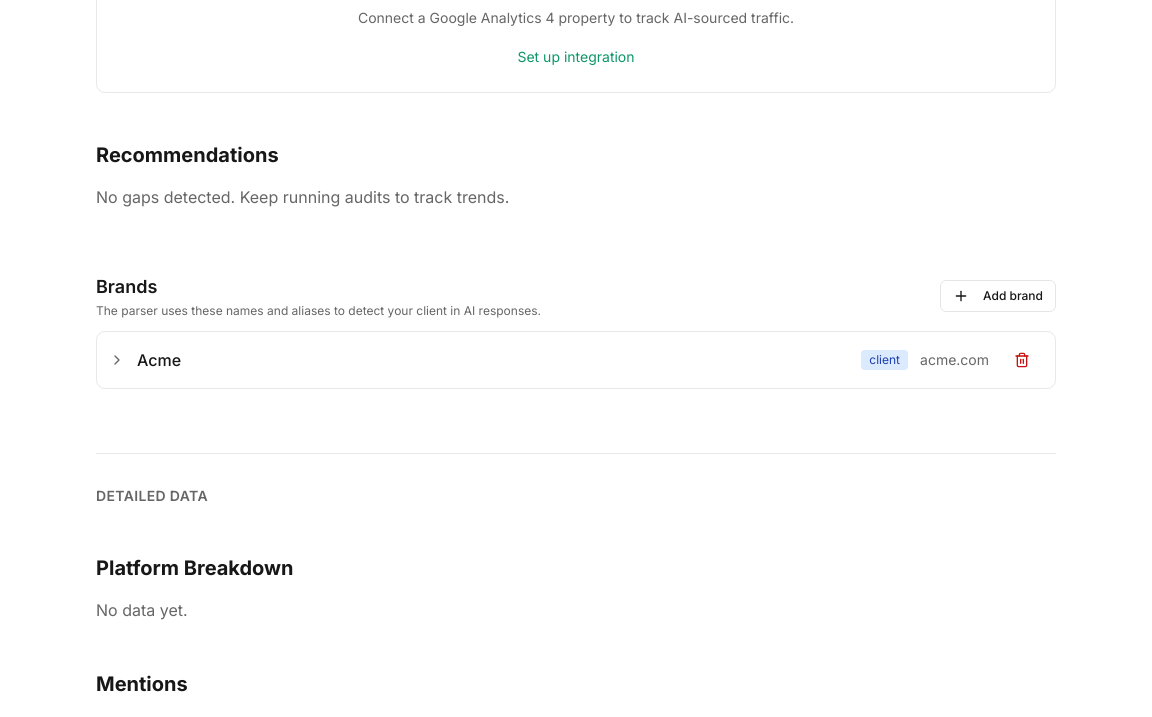
it: ClientDetail (consolidated AI visibility page) › shows an explanatory tooltip on the aliases section (B-24)
(page scrolled)
Click the button named "expand to manage aliases" at (117, 360), box x1=109 y1=352 x2=125 y2=368
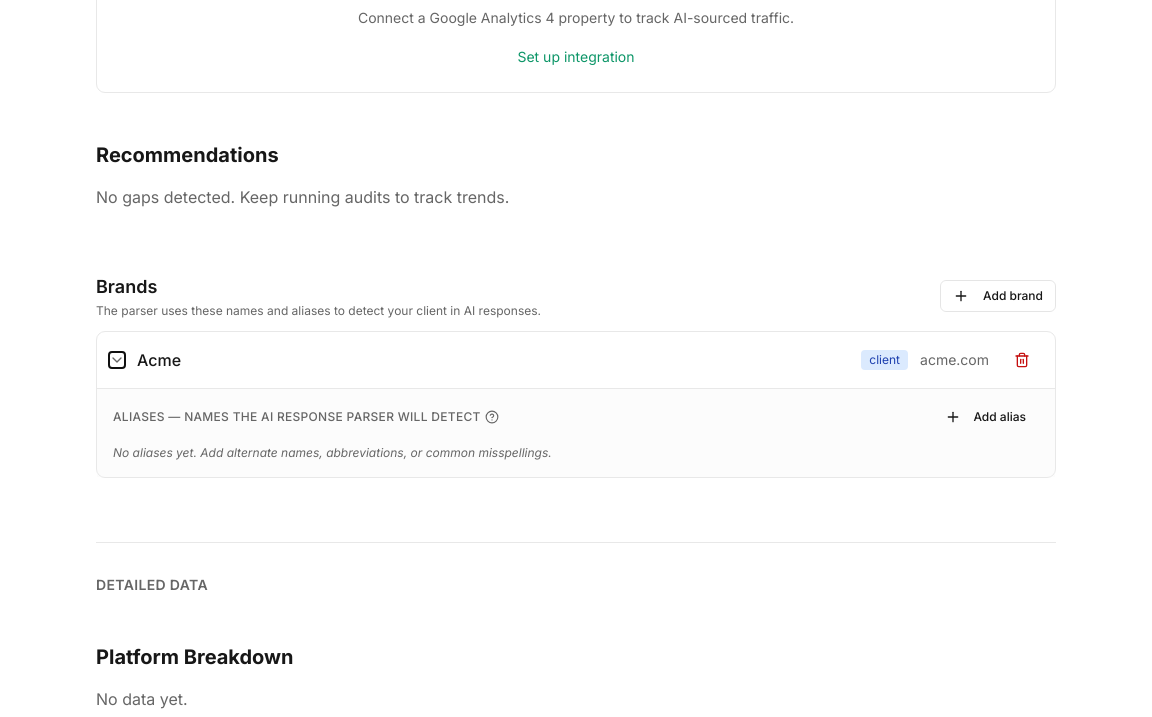
Hover over the button named "about aliases" at (492, 417), box x1=485 y1=410 x2=499 y2=424
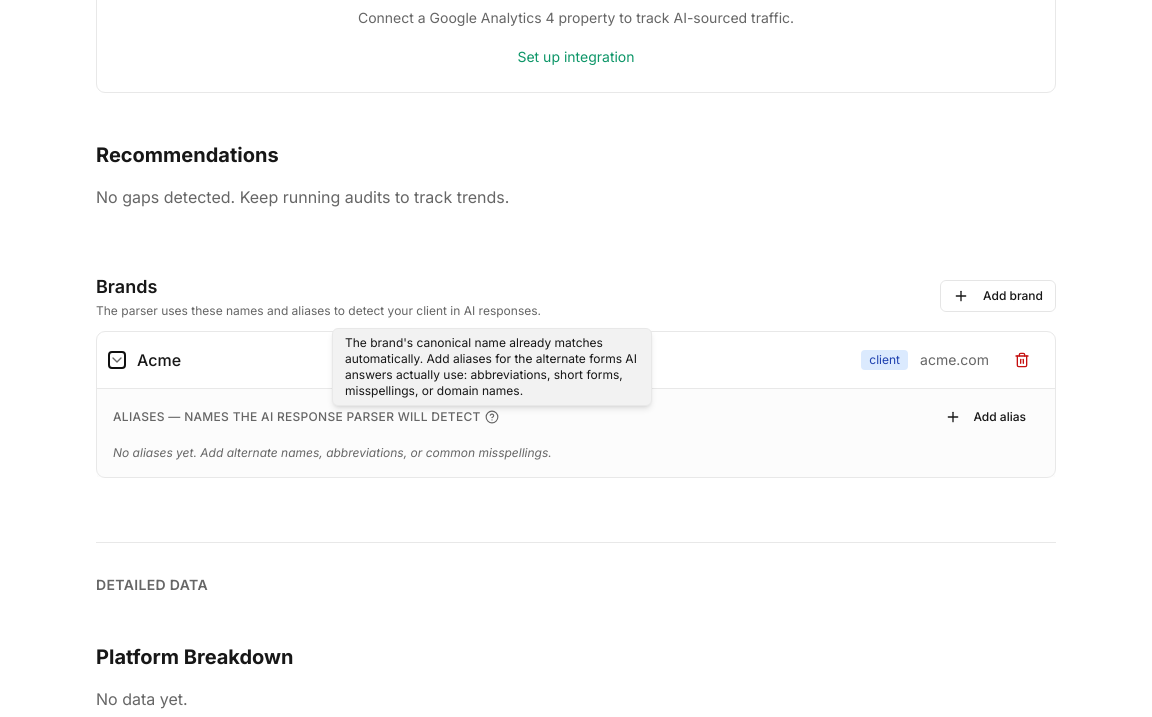
Now the tooltip "canonical name already matches automatically" is shown, box x1=332 y1=328 x2=652 y2=406
